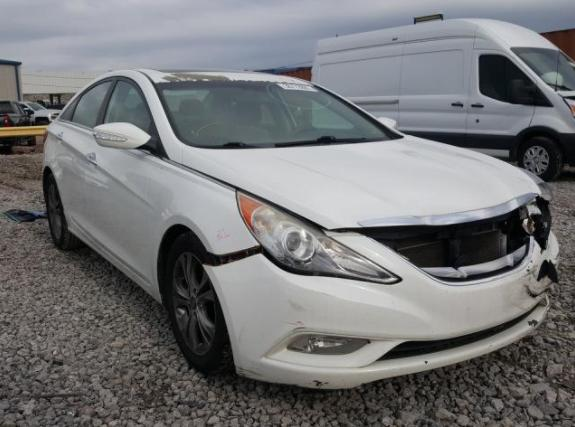Back-door: (53, 77, 117, 233)
Back-wheel: (45, 174, 83, 251)
Back-window: (71, 80, 113, 127), (60, 101, 75, 120)
Fender: (147, 156, 261, 291)
Front-bumper: (201, 228, 560, 388)
Front-door: (84, 77, 159, 284)
Front-wheel: (163, 232, 250, 379)
Front-window: (103, 80, 151, 134)
Headlight: (236, 188, 400, 285)
Hood: (182, 134, 542, 230)
Mirror: (93, 122, 159, 155), (376, 117, 397, 130)
Quarter-panel: (44, 119, 69, 222)
Rocker-panel: (68, 216, 162, 305)
Roof: (127, 68, 313, 85)
Windshield: (154, 81, 397, 148)
